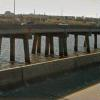Bridge: (2, 7, 100, 52)
